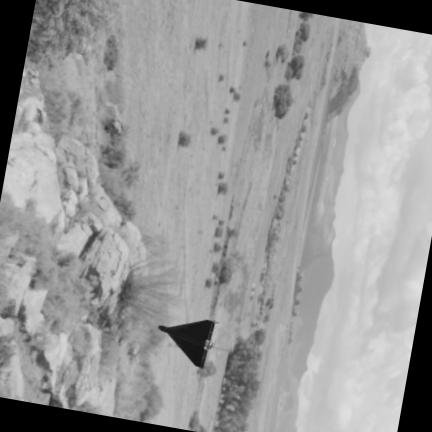Shahed: (158, 320, 214, 368)
